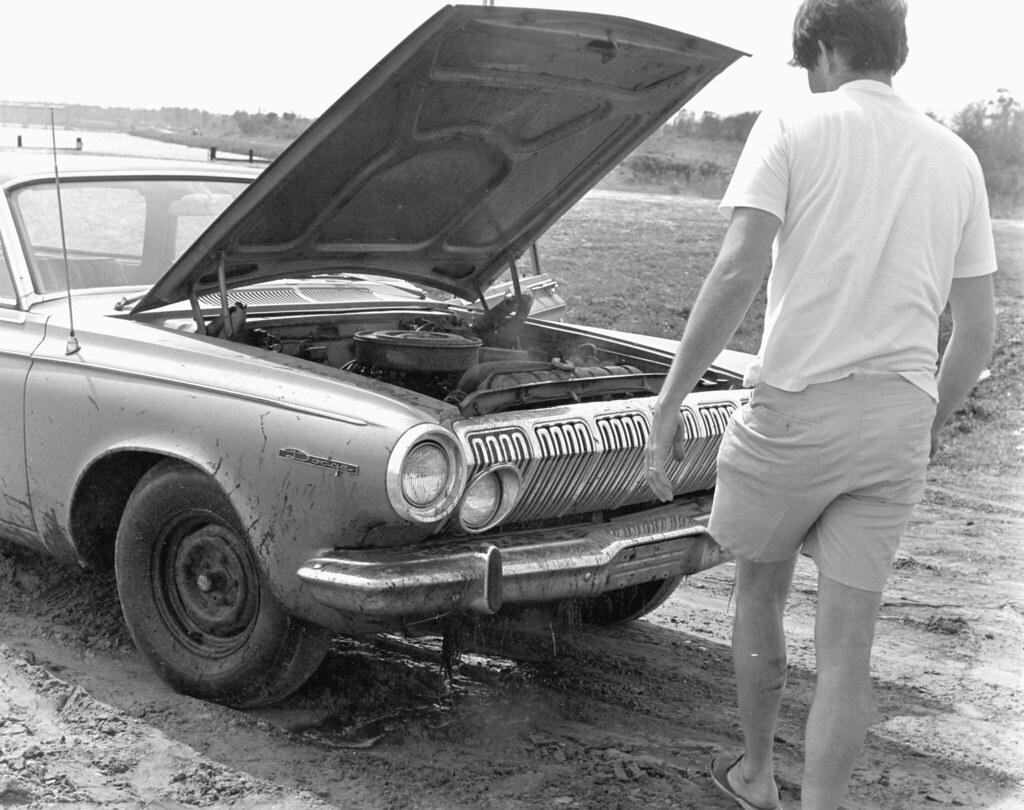fender-dent: (43, 343, 405, 573)
front-bumper-dent: (418, 445, 787, 627)
